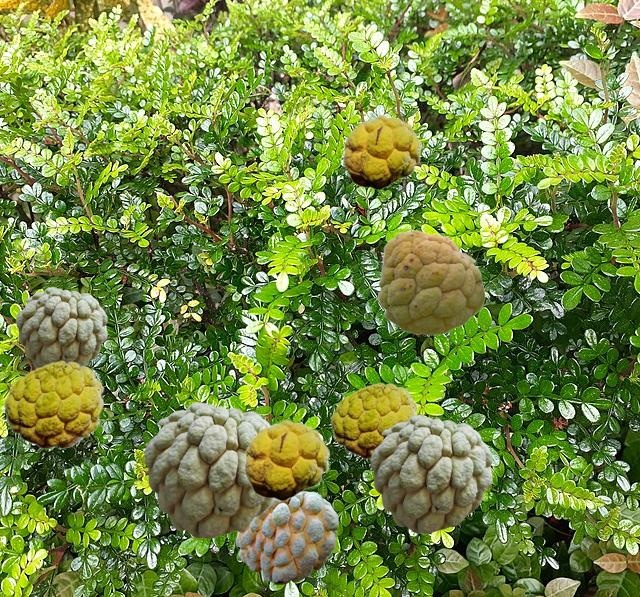atis: (144, 402, 273, 537), (370, 415, 491, 532), (377, 229, 484, 334), (235, 491, 337, 583), (3, 360, 103, 448), (16, 287, 106, 367), (243, 419, 329, 500), (330, 382, 417, 458), (342, 114, 421, 189)
